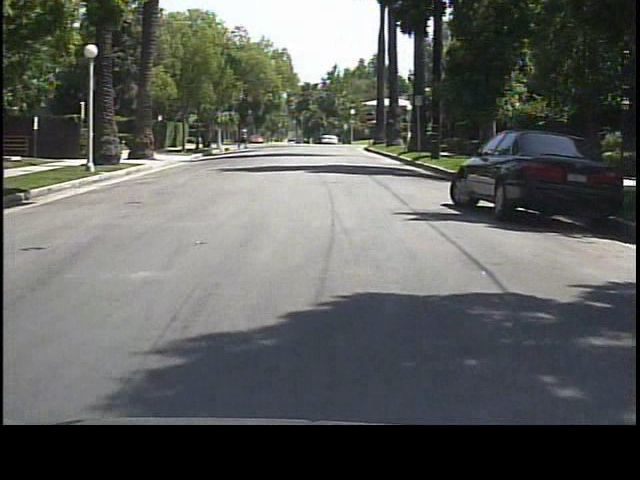person: (238, 126, 251, 155)
